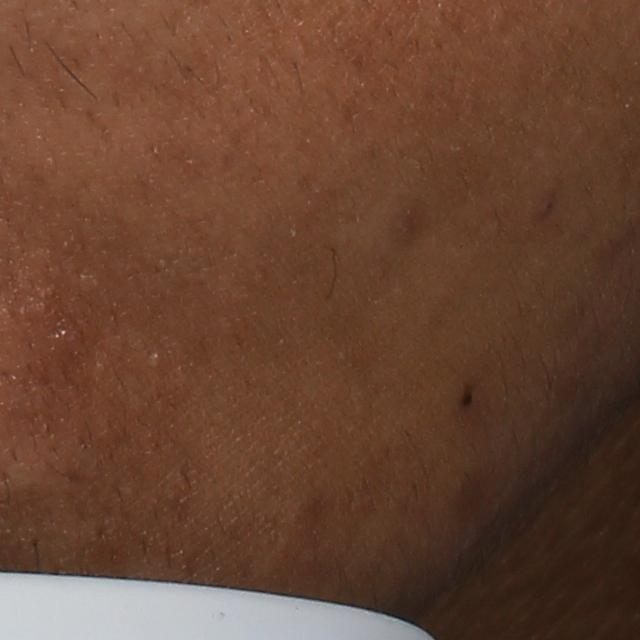nevus: (455, 387, 477, 409)
